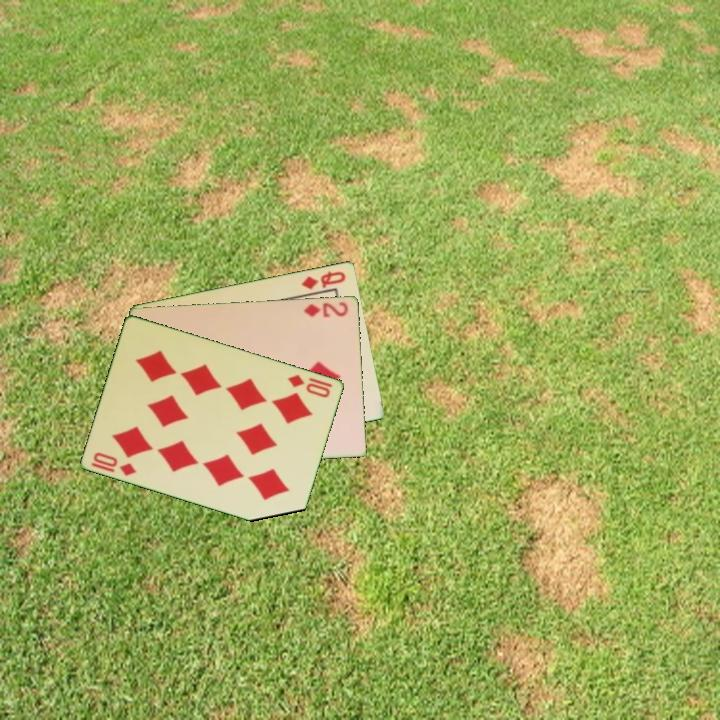10d: (90, 448, 140, 479), (284, 371, 333, 400)
2d: (300, 298, 351, 320)
Qd: (298, 267, 349, 292)
